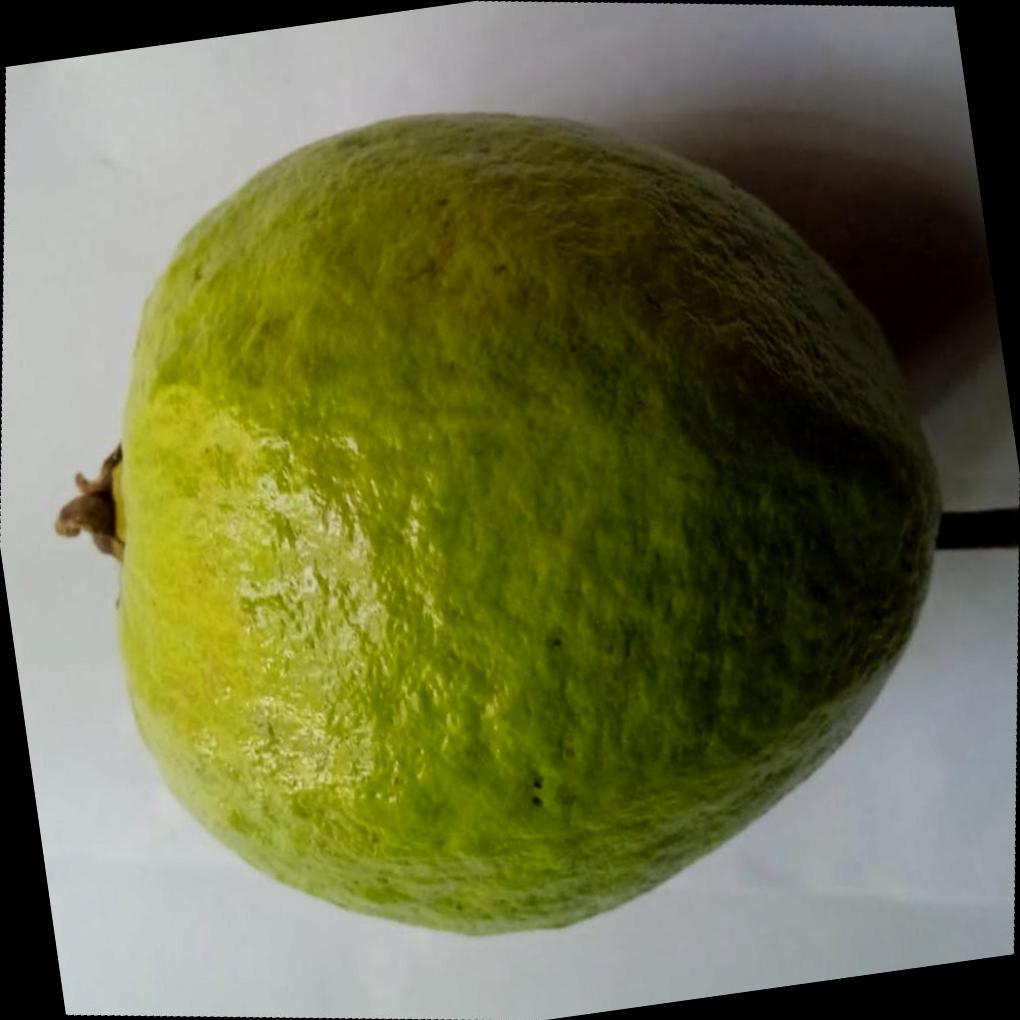FreshGuava: (62, 108, 951, 939)
